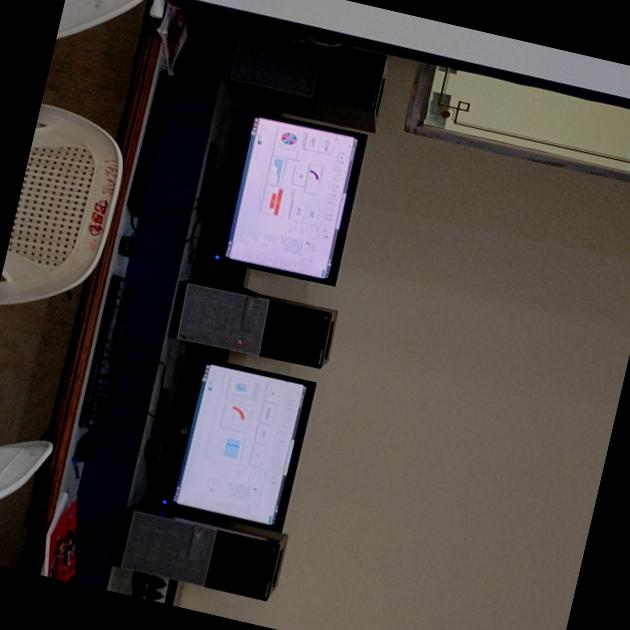computer: (178, 97, 376, 292), (140, 354, 326, 536)
cpu: (142, 266, 350, 383), (103, 502, 294, 612)
keyboard: (69, 271, 140, 436)
